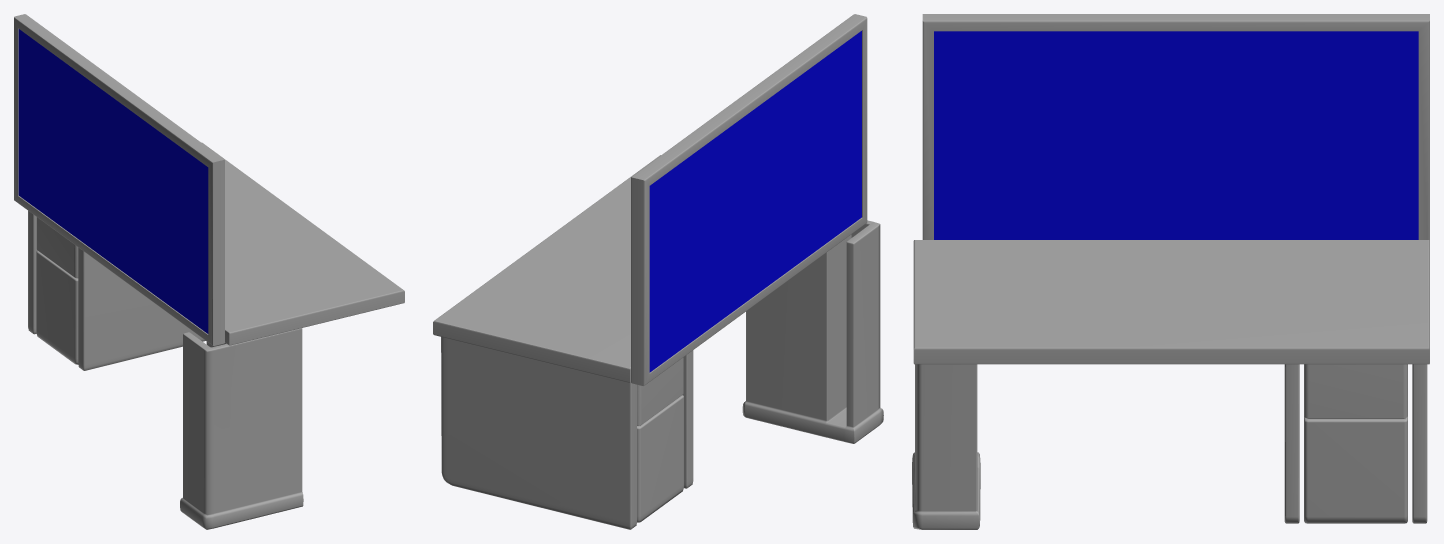
The model's file is Desk.fbx.
3 renders of one model, left to right at view 1: azimuth 30°, elevation 25°; view 2: azimuth 150°, elevation 25°; view 3: azimuth 270°, elevation 25°, orthographic. The views are drawn at different scales.
Parts seen in each view (by area): view 1: BackBoard, Body, Sides, LowerDrawer, UpperDrawer; view 2: BackBoard, Body, Sides, LowerDrawer, UpperDrawer; view 3: BackBoard, Body, LowerDrawer, UpperDrawer, Sides.
Boxes of the visible parts, x1,y1,x2,y2 form: BackBoard: (14,14,224,345); Body: (180,142,404,529); Sides: (28,211,205,370); LowerDrawer: (36,251,78,364); UpperDrawer: (36,217,78,278); BackBoard: (631,14,867,385); Body: (433,155,883,443); Sides: (441,337,693,529); LowerDrawer: (637,395,684,522); UpperDrawer: (637,357,683,425); BackBoard: (922,14,1429,240); Body: (912,240,1429,529); LowerDrawer: (1304,416,1407,523); UpperDrawer: (1304,364,1407,418); Sides: (1284,364,1427,523).
Bounding box in the file's own units: 4.68 × 8.14 × 8.28.
